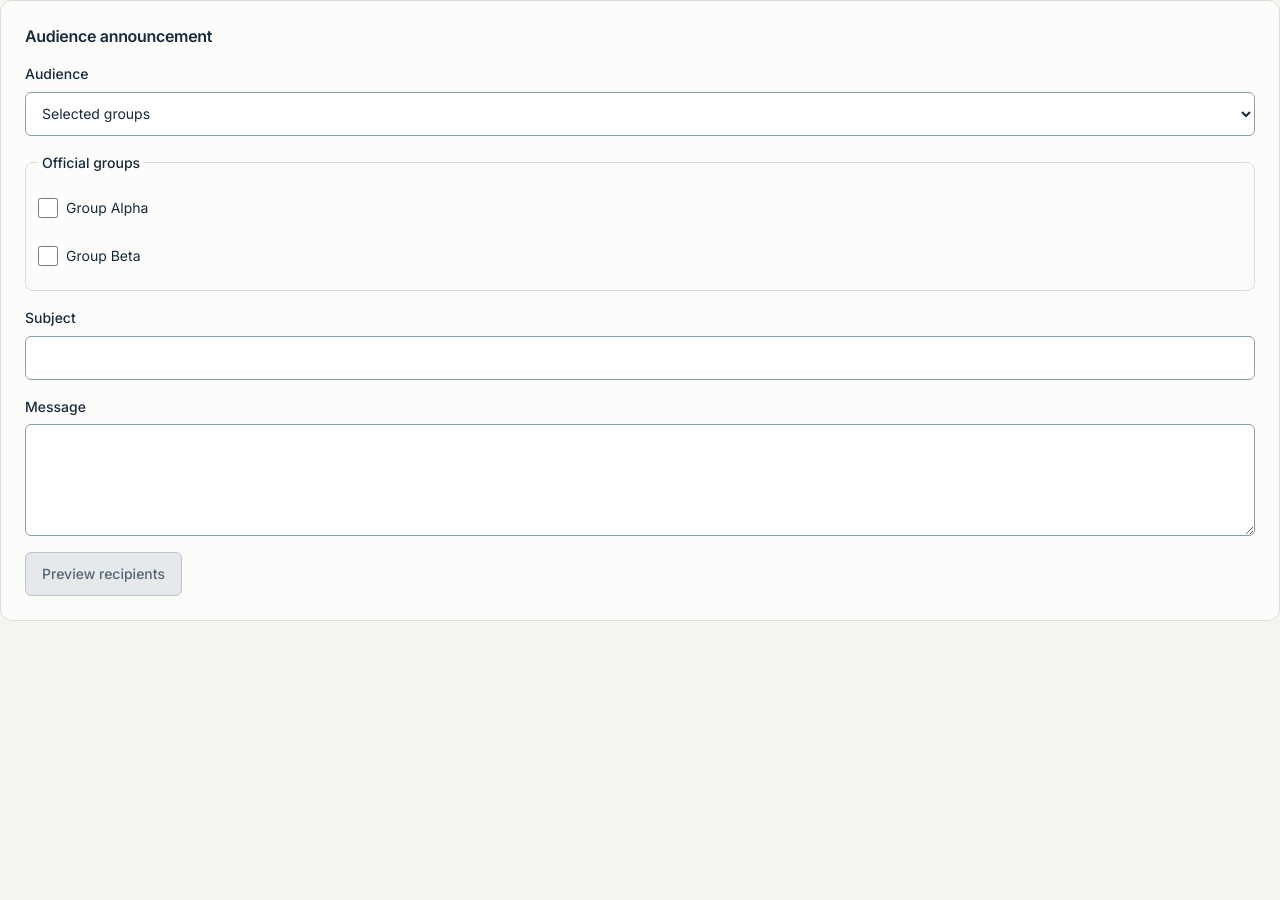
Test: multi-group class notices › keeps the preview disabled until a group is selected and ignores archived groups
The image size is (1280, 900).
Expected: the button "Preview recipients" is disabled, [25,552,182,596]
Click the checkbox labelled "Group Alpha" at (48, 208), box [38,198,58,218]
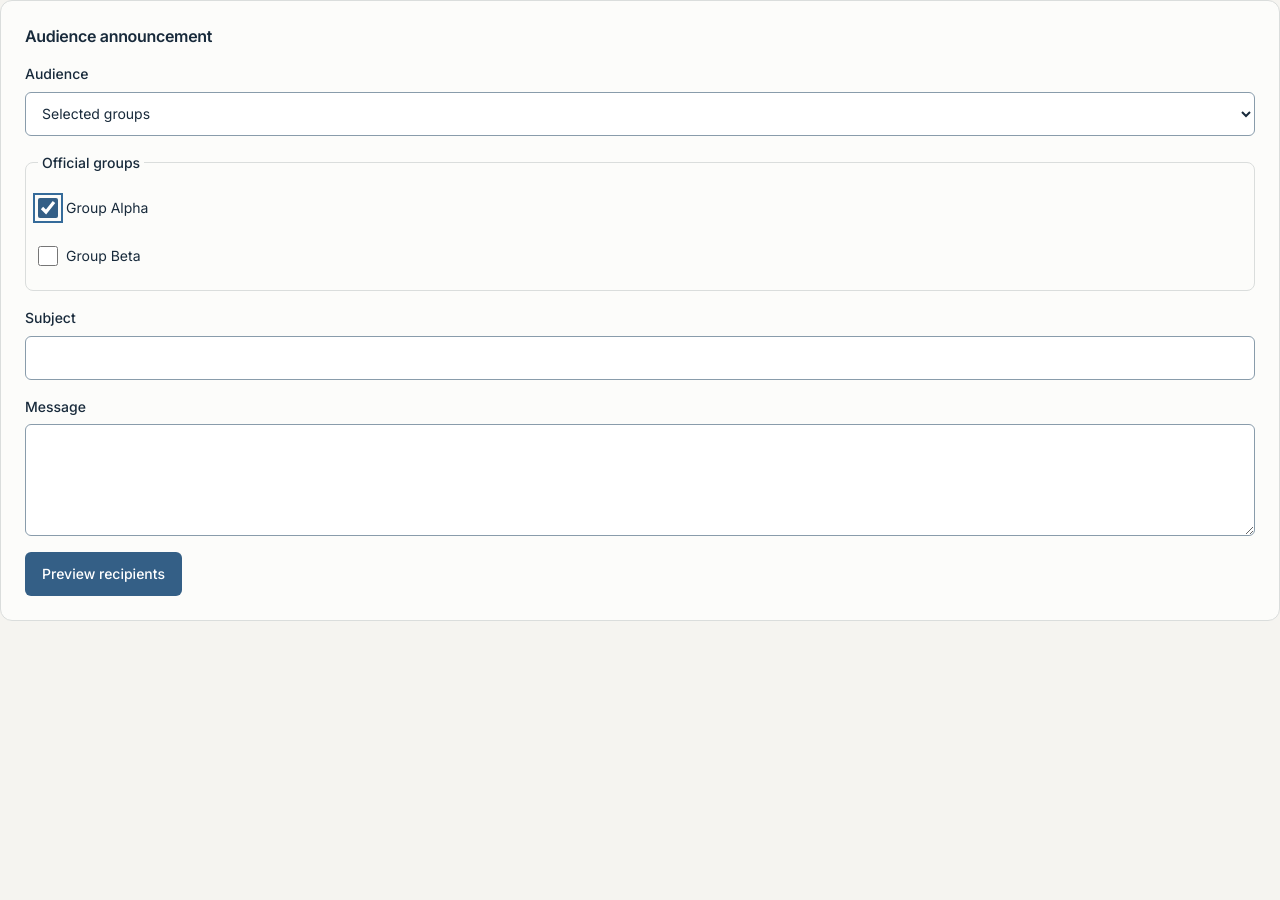
Now the button "Preview recipients" is enabled, box [25,552,182,596]
